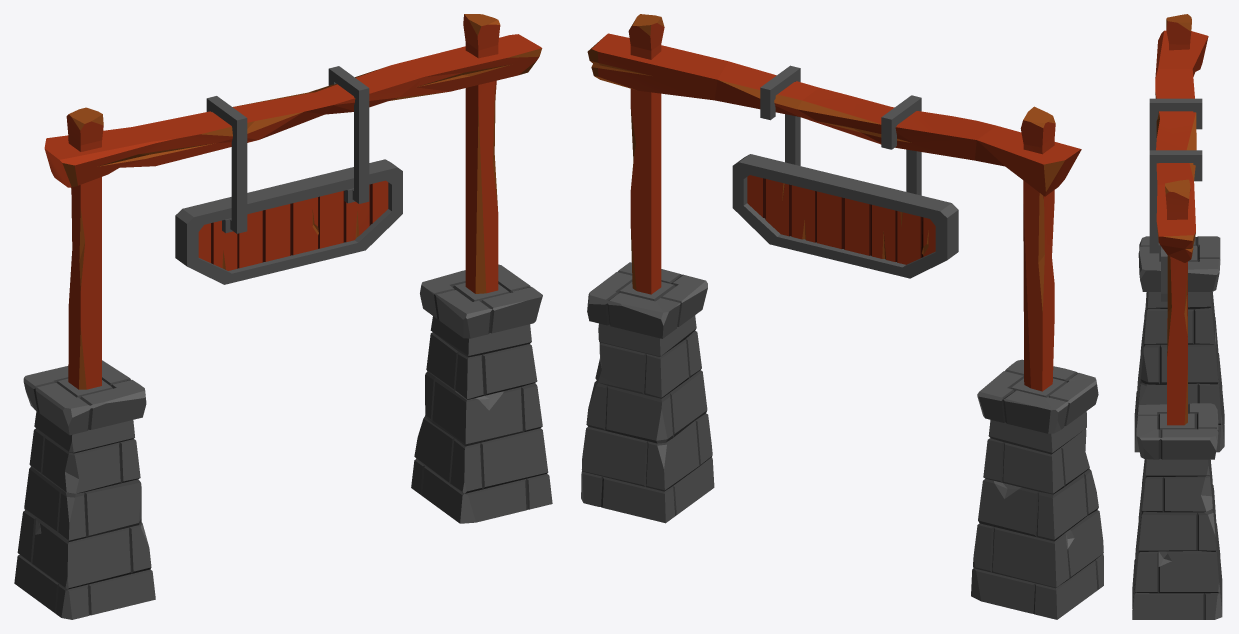
File: Gate.001_2.fbx
3 renders of one model, left to right at view 1: azimuth 30°, elevation 25°; view 2: azimuth 150°, elevation 25°; view 3: azimuth 270°, elevation 25°, orthographic. The views are drawn at different scales.
Parts seen in each view (by area): view 1: Gate.001_2; view 2: Gate.001_2; view 3: Gate.001_2.
Boxes of the visible parts, box(x1,y1,x2,y2) form: Gate.001_2: box(14, 14, 552, 619); Gate.001_2: box(581, 14, 1103, 619); Gate.001_2: box(1132, 14, 1224, 619).
Bounding box in the file's own units: 129 × 120 × 24.09.
